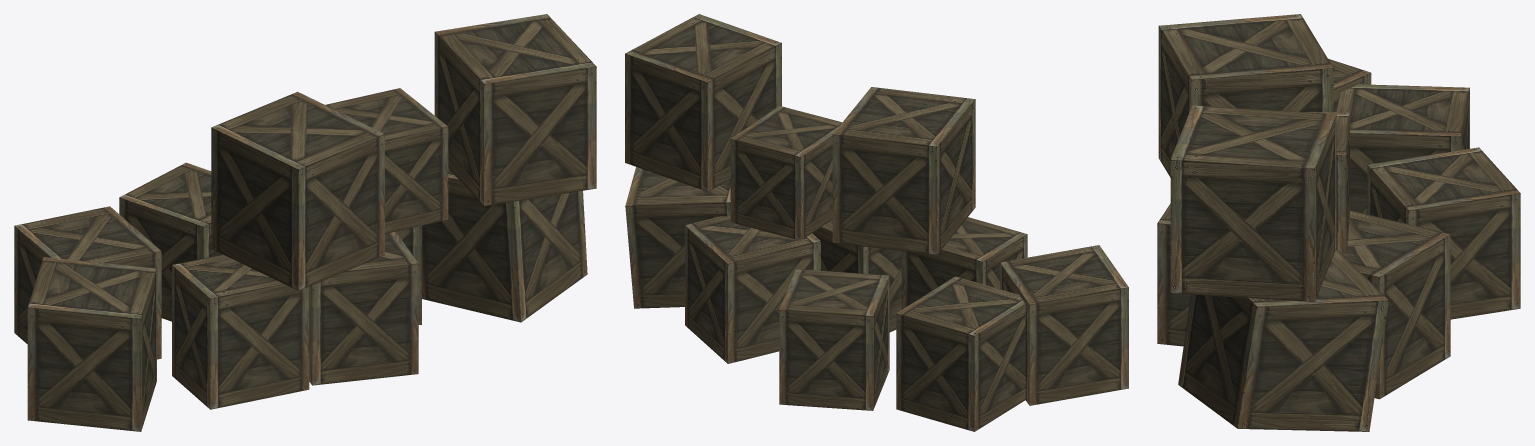
The model's file is oMscCrate01a.FBX.
The picture shows the model from 3 angles, left to right: view 1: azimuth 30°, elevation 25°; view 2: azimuth 150°, elevation 25°; view 3: azimuth 270°, elevation 25°; orthographic projection. The views are drawn at different scales.
Parts seen in each view (by area): view 1: oMscCrate01a; view 2: oMscCrate01a; view 3: oMscCrate01a.
Part boxes in pixels (x1,y1,x2,y2): oMscCrate01a: [14, 14, 596, 431]; oMscCrate01a: [625, 14, 1128, 431]; oMscCrate01a: [1157, 14, 1520, 431].
Size of the model in its own units: 37.12 by 16.7 by 19.49.
Materials: 1 (1 with a texture image).
